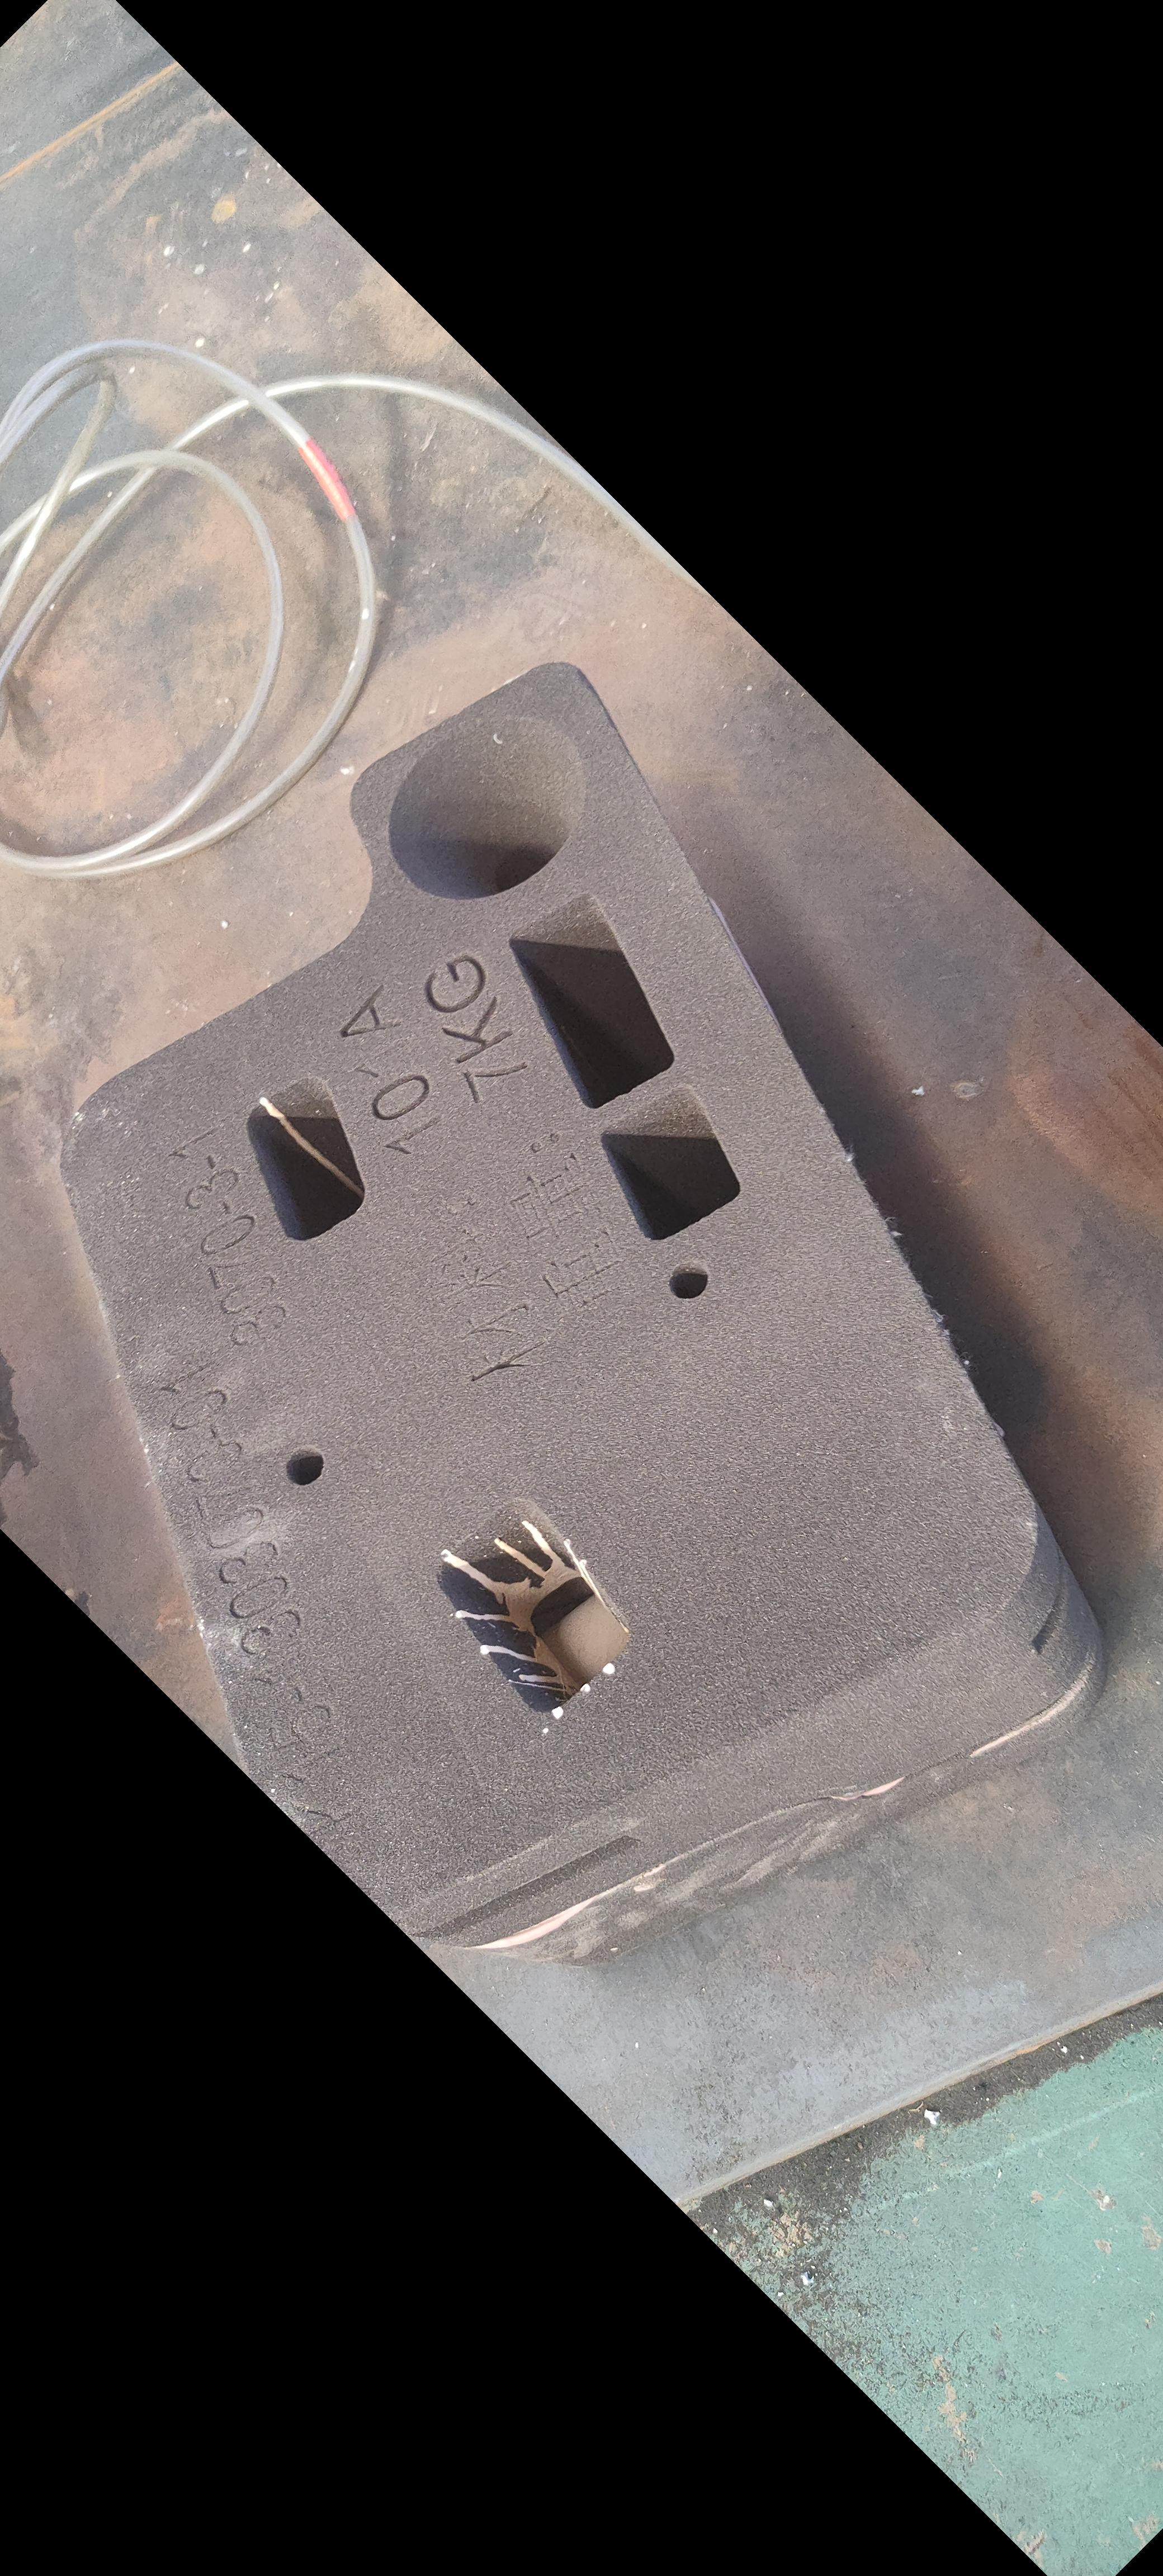pouring hole: (388, 716, 585, 900)
